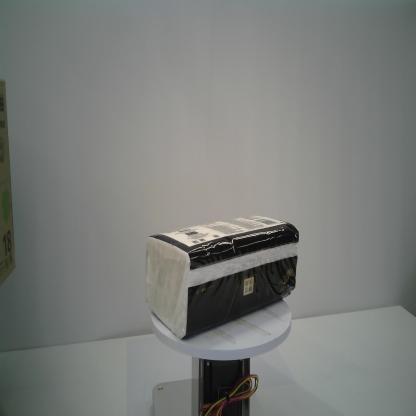Tissue: (143, 213, 300, 344)
